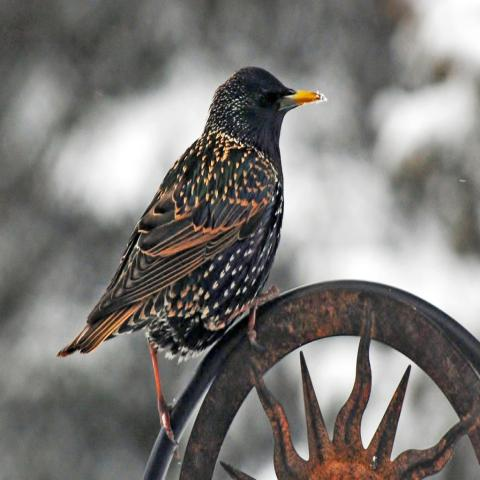bird: (54, 63, 328, 449)
